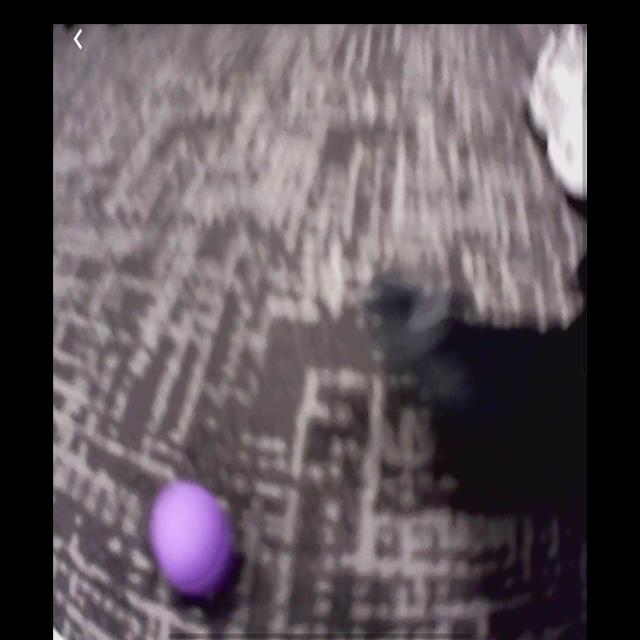ball: (148, 479, 239, 603)
